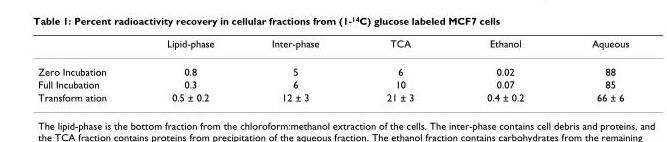table: (37, 37, 628, 102)
table column: (242, 37, 352, 102), (449, 37, 557, 102), (135, 37, 242, 102), (37, 37, 135, 102), (352, 37, 449, 102), (557, 37, 628, 102)
table column header: (37, 37, 628, 57)
table row: (37, 37, 628, 57), (37, 57, 628, 77), (37, 77, 628, 90), (37, 90, 628, 102)
